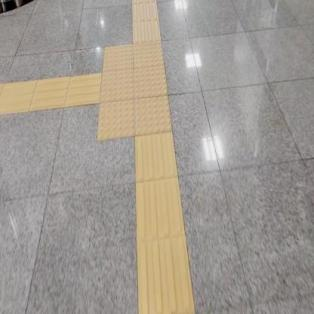Podoctatil: (79, 27, 182, 155), (132, 134, 198, 314), (0, 72, 99, 117), (132, 0, 163, 42)
